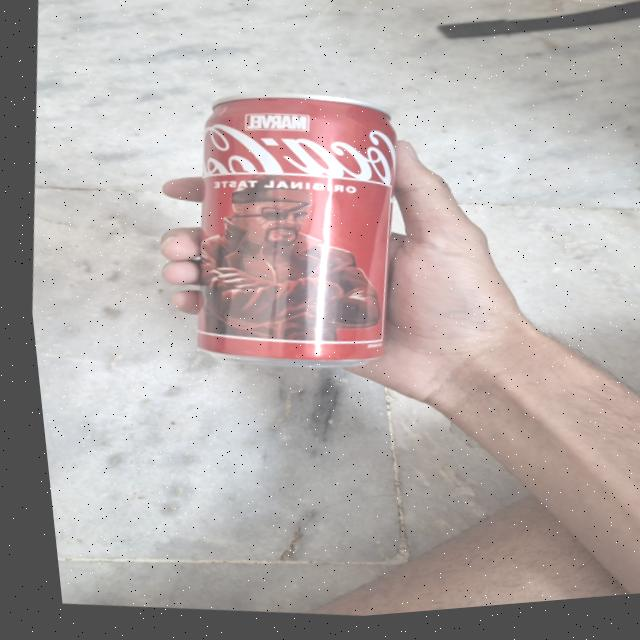Coca Cola - Marvel: (153, 75, 422, 390)
